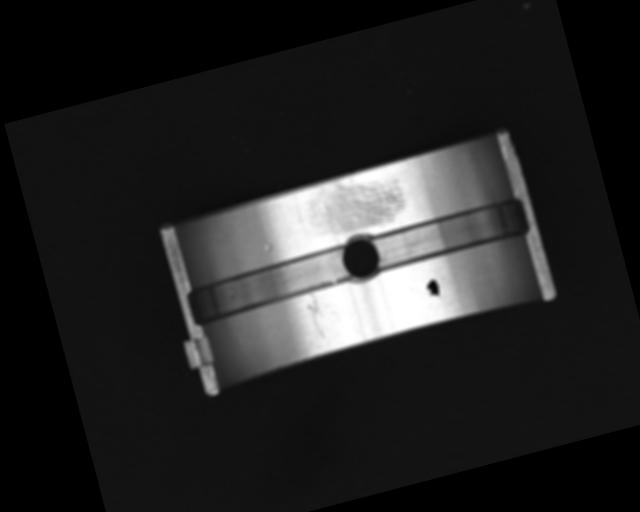blot: (423, 276, 443, 303)
bruise: (262, 241, 275, 253)
gap: (185, 241, 356, 328), (367, 195, 531, 274)
hole: (336, 230, 385, 287)
nick: (302, 291, 329, 342)
scratch: (299, 165, 411, 242)
